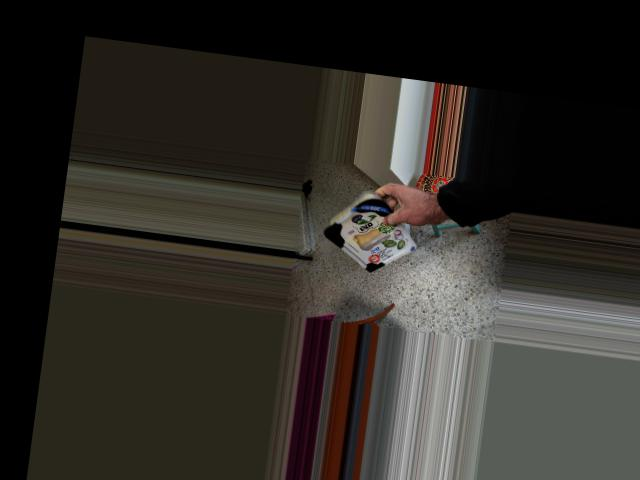cheese: (321, 169, 410, 284)
